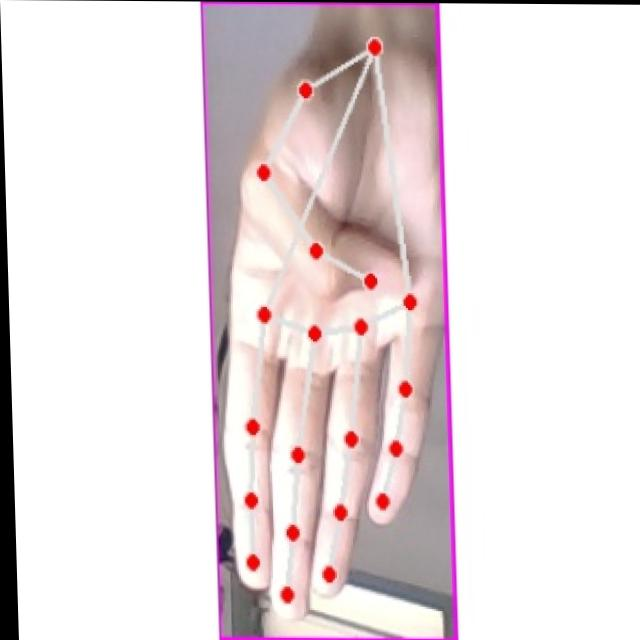B: (206, 26, 444, 626)
